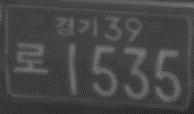1: (58, 44, 86, 97)
3: (122, 46, 150, 101), (102, 15, 121, 42)
5: (154, 48, 181, 103), (90, 45, 118, 97)
9: (124, 15, 142, 42)
경기_O: (54, 15, 99, 38)
로: (13, 41, 47, 75)
